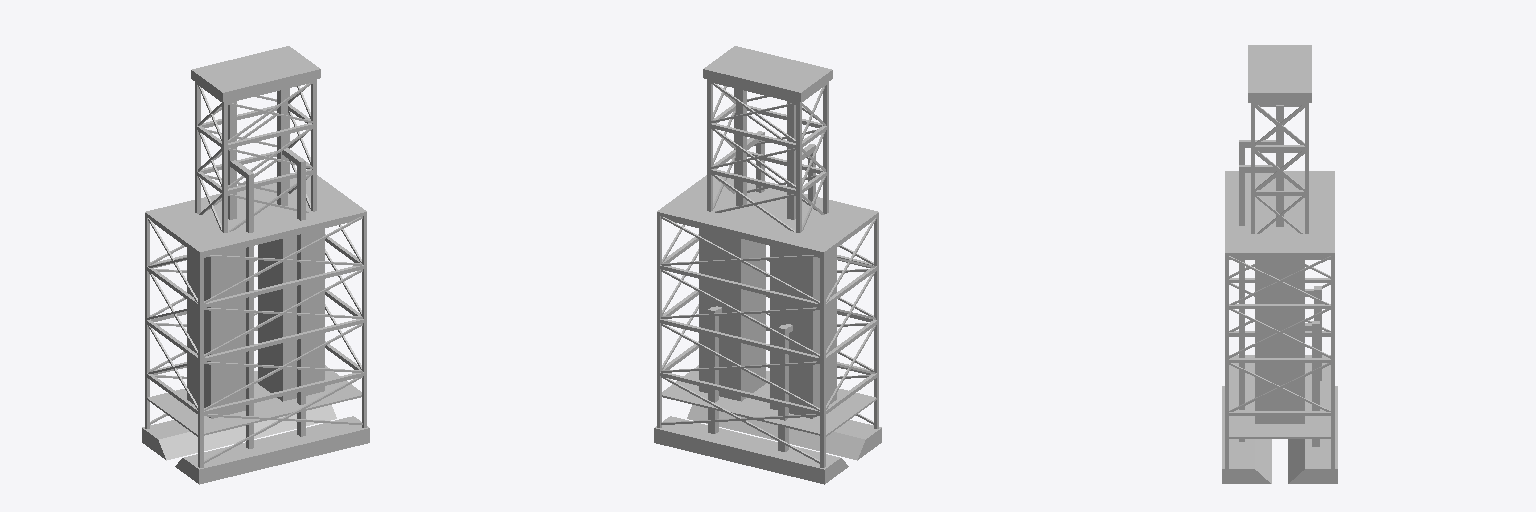
Rendered from coker_unit_mirrored.obj.
3 renders of one model, left to right at view 1: azimuth 30°, elevation 25°; view 2: azimuth 150°, elevation 25°; view 3: azimuth 270°, elevation 25°, orthographic.
Parts seen in each view (by area): view 1: cube; view 2: cube; view 3: cube.
Part boxes in pixels (bbox=[...]): cube: bbox=[142, 46, 369, 484]; cube: bbox=[654, 46, 881, 484]; cube: bbox=[1222, 45, 1337, 483].
Bounding box in the file's own units: 12 × 25.06 × 7.